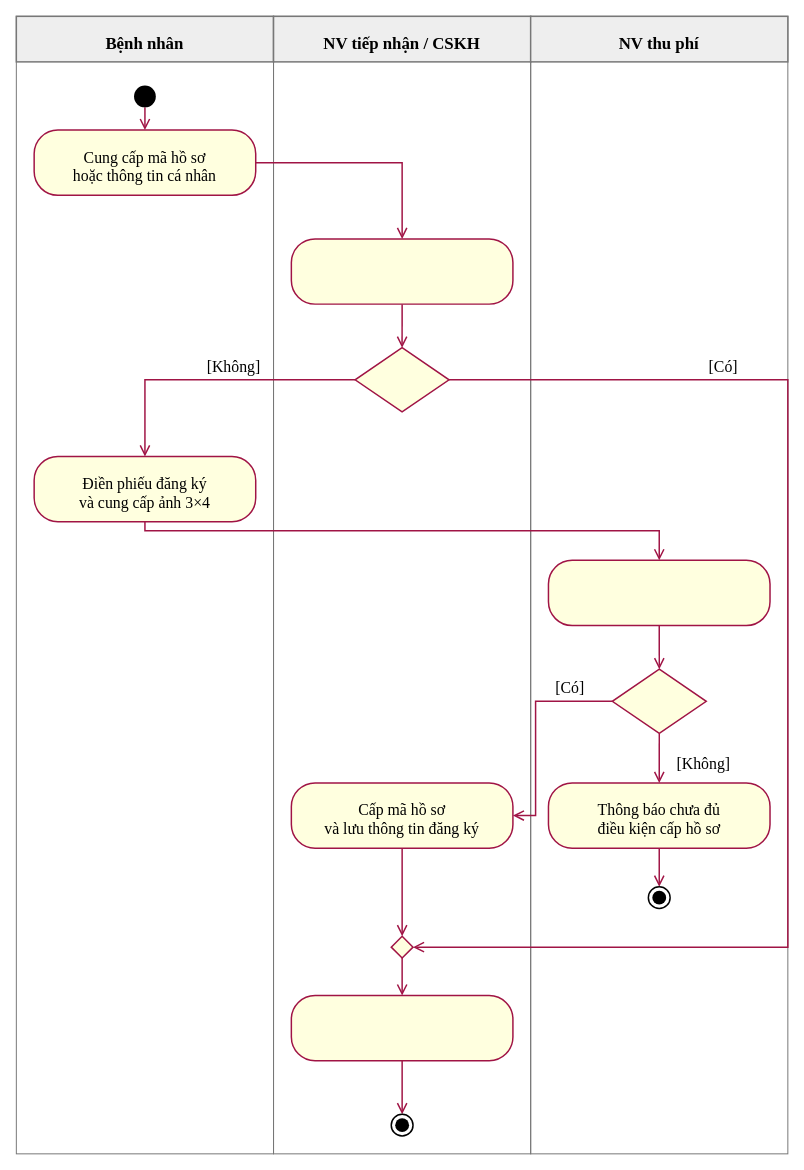
Image size: 804x1170. Some labels were removed from this diagram. The shapes that lost their labels are listed below. From the top down, each one's box as (x1, y1, x2, y2) in pixels, then its label:
(290, 238, 513, 304): Tra cứu hồ sơ bằng mã hoặc thông tin
(354, 346, 449, 412): Có hồ sơ?
(547, 559, 770, 626): Thu lệ phí năm và ghi nhận phiếu thu
(611, 668, 707, 734): Đã thu lệ phí?
(290, 994, 513, 1061): Lập phiếu khám và chuyển đến bác sĩ
